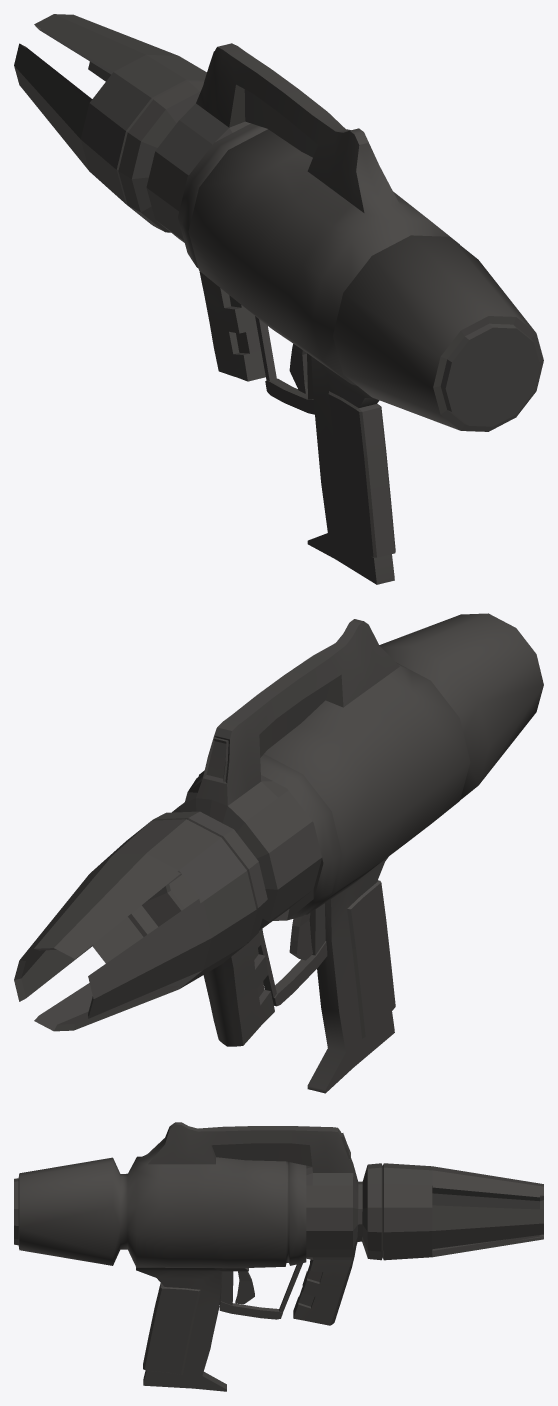
File: GIM_GUN.FBX
The picture shows the model from 3 angles, top to bottom: view 1: azimuth 30°, elevation 25°; view 2: azimuth 150°, elevation 25°; view 3: azimuth 270°, elevation 25°; orthographic projection. The views are drawn at different scales.
Parts seen in each view (by area): view 1: Box002; view 2: Box002; view 3: Box002.
Part boxes in pixels (x1,y1,x2,y2): Box002: (14,14,543,584); Box002: (14,613,543,1093); Box002: (14,1122,543,1391).
Bounding box in the file's own units: 24.93 × 64.28 × 116.
